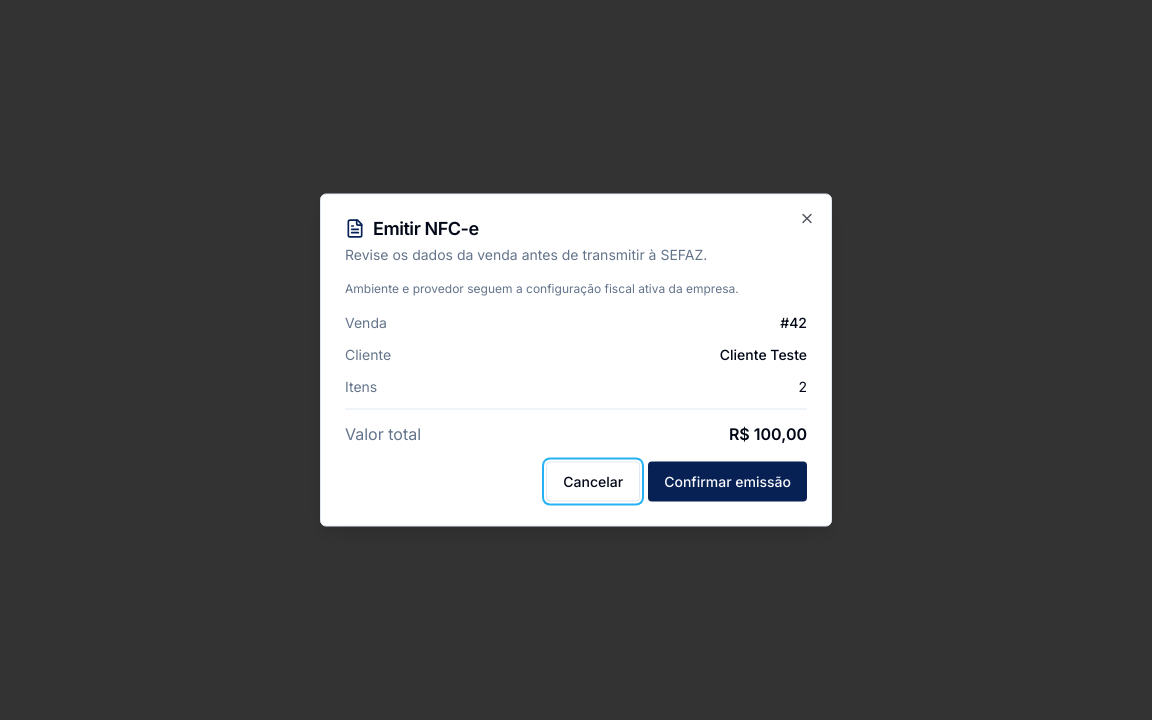
Test: EmitirNFeDialog — contingência de NFC-e › oferece "emitir em contingência" quando o backend sinaliza sefaz_indisponivel
Click the button "Confirmar emissão".
click(728, 482)  # box 648,462 -> 807,502
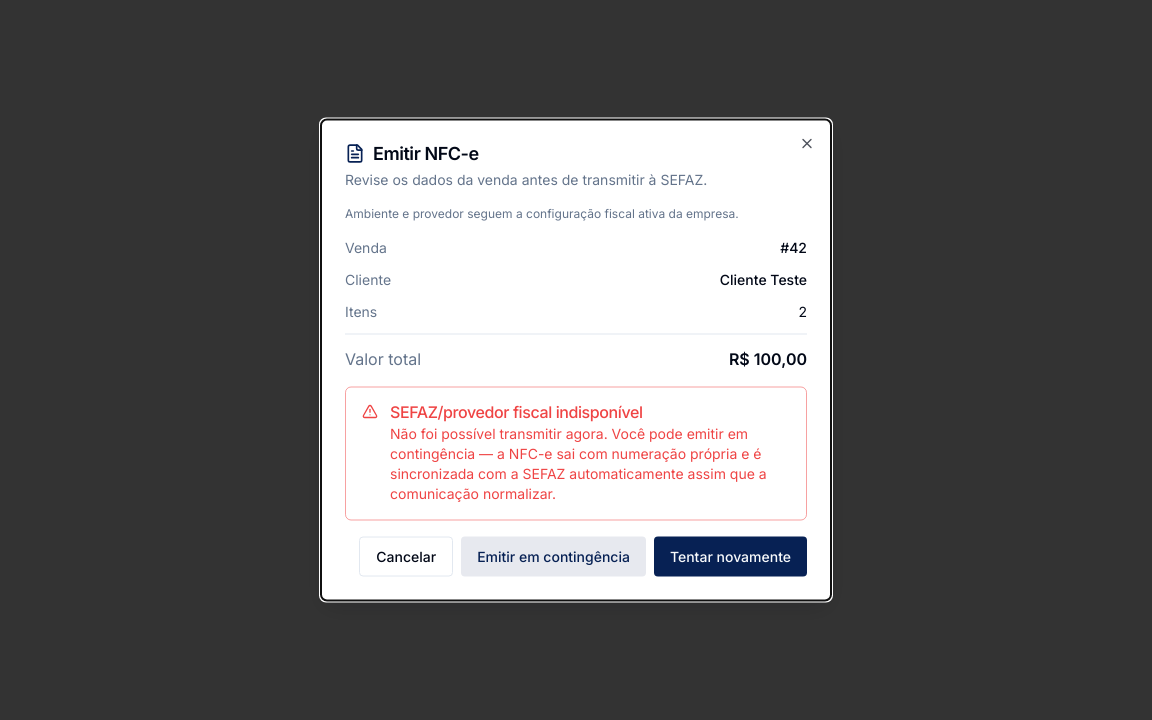
Now the button "Emitir em contingência" is shown, box 461,536 -> 646,576
